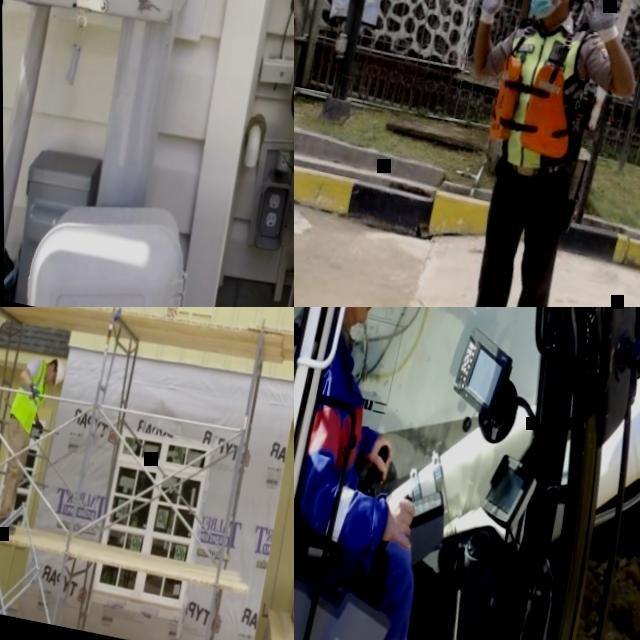helmet: (50, 358, 66, 388)
vest: (482, 15, 594, 171), (294, 349, 381, 548), (5, 352, 52, 433)
